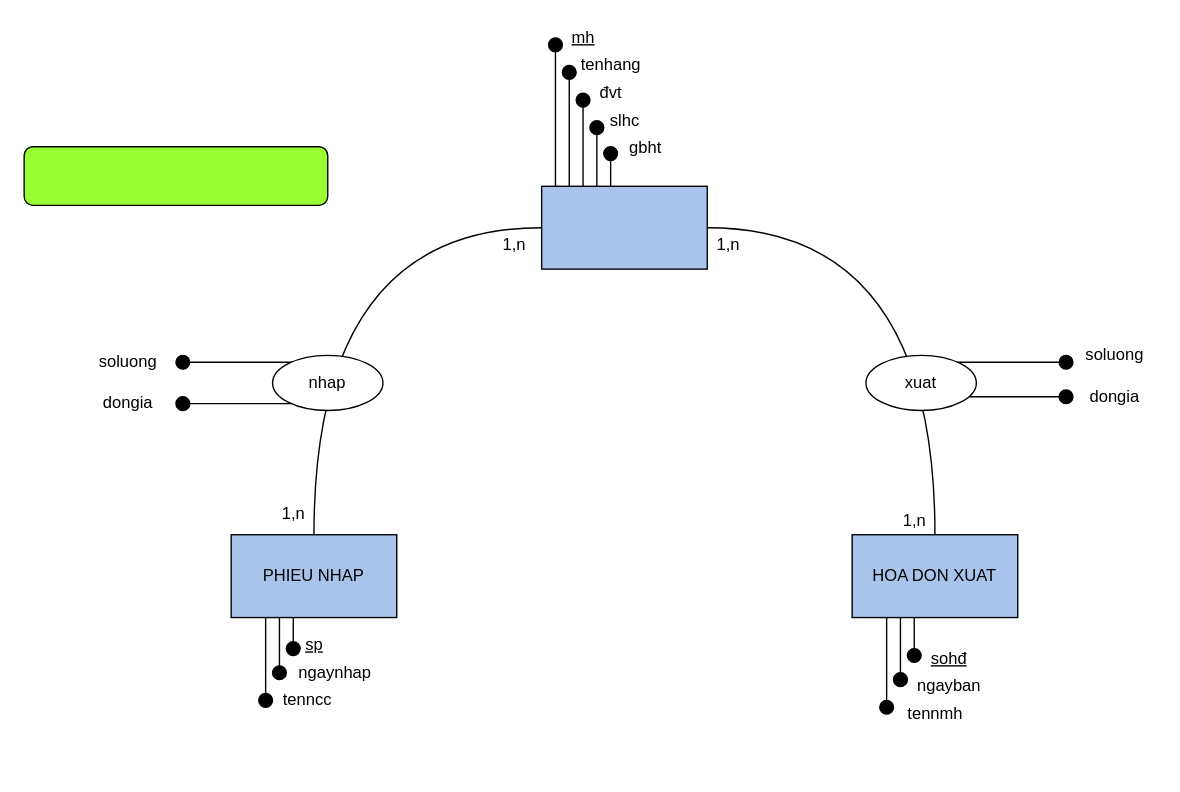
Some shapes in this 1180 by 792 pixel diagram are drawn without their labels. The shapes that lost their labels are listed below. From the top down, each one's centre as x and y in pixels, then its label:
At point 175,175: "THIẾT KẾ CƠ SỞ DỮ LIỆU - BÀI 2".
At point 623,227: "MAT HANG".
